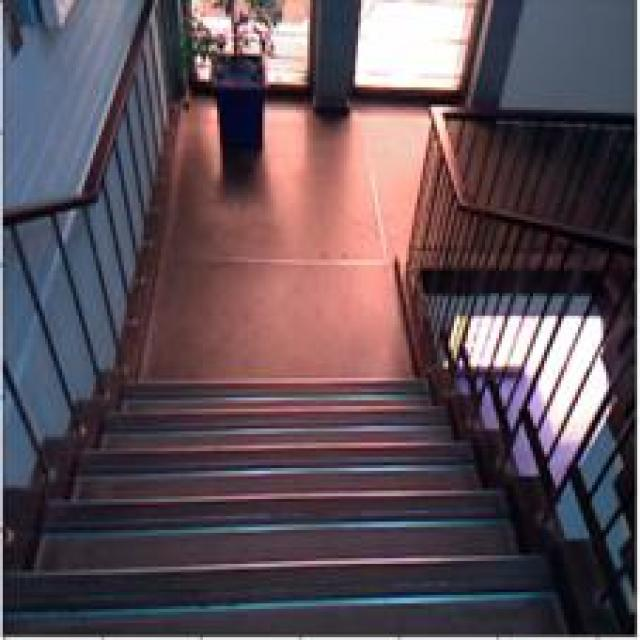stair: (68, 457, 530, 634)
